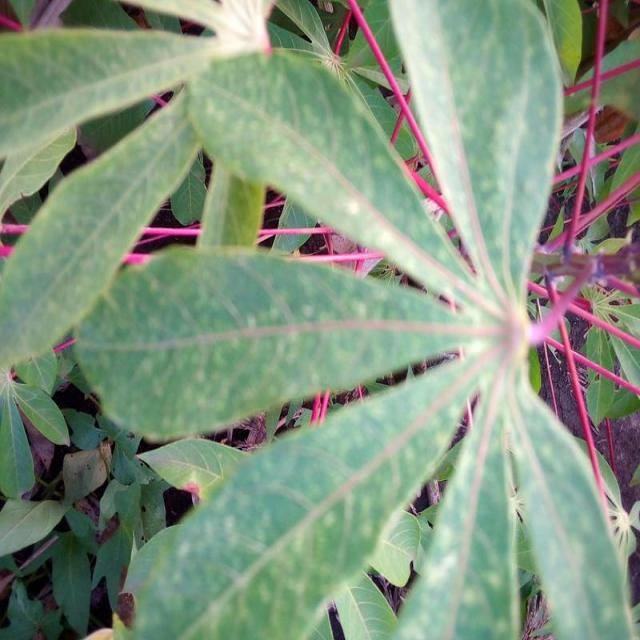cassava leaf: (1, 0, 636, 638), (72, 242, 471, 443), (185, 46, 476, 301)
